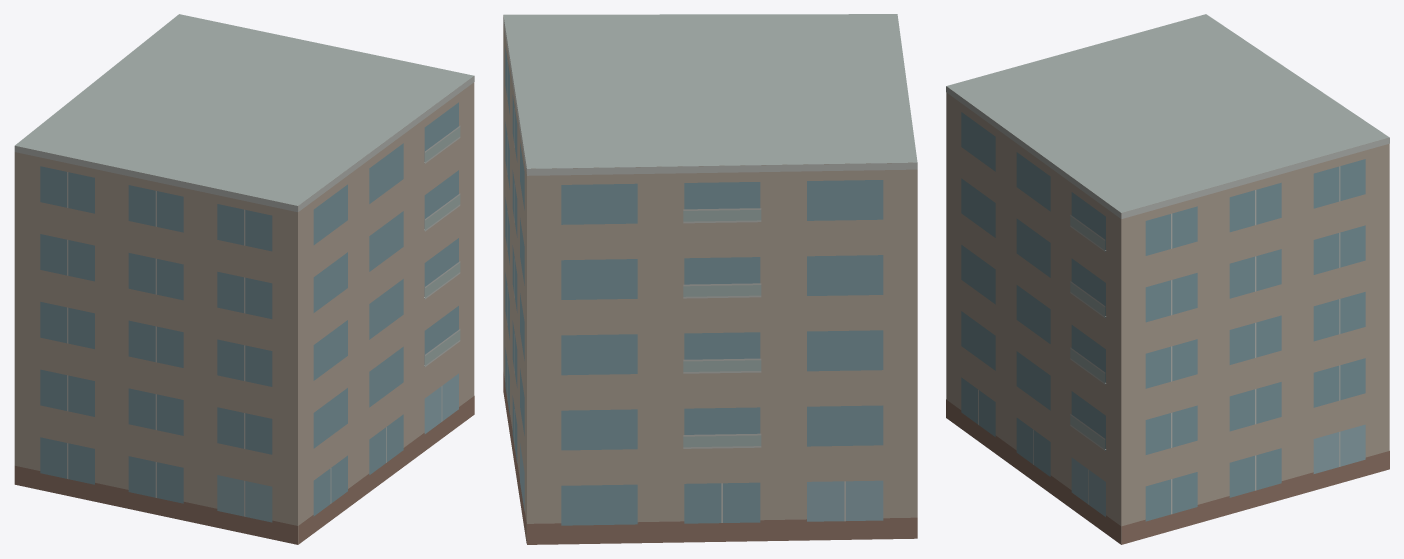
Rendered from survey-upis-32854357.glb.
The picture shows the model from 3 angles, left to right: view 1: azimuth 30°, elevation 25°; view 2: azimuth 150°, elevation 25°; view 3: azimuth 270°, elevation 25°; orthographic projection. The views are drawn at different scales.
Parts seen in each view (by area): view 1: survey-upis-32854357.tmp; view 2: survey-upis-32854357.tmp; view 3: survey-upis-32854357.tmp.
Boxes of the visible parts, box(x1,y1,x2,y2) form: survey-upis-32854357.tmp: box(14, 14, 474, 544); survey-upis-32854357.tmp: box(503, 14, 917, 544); survey-upis-32854357.tmp: box(946, 14, 1389, 544).
Size of the model in its own units: 16.86 by 13.1 by 15.88.
